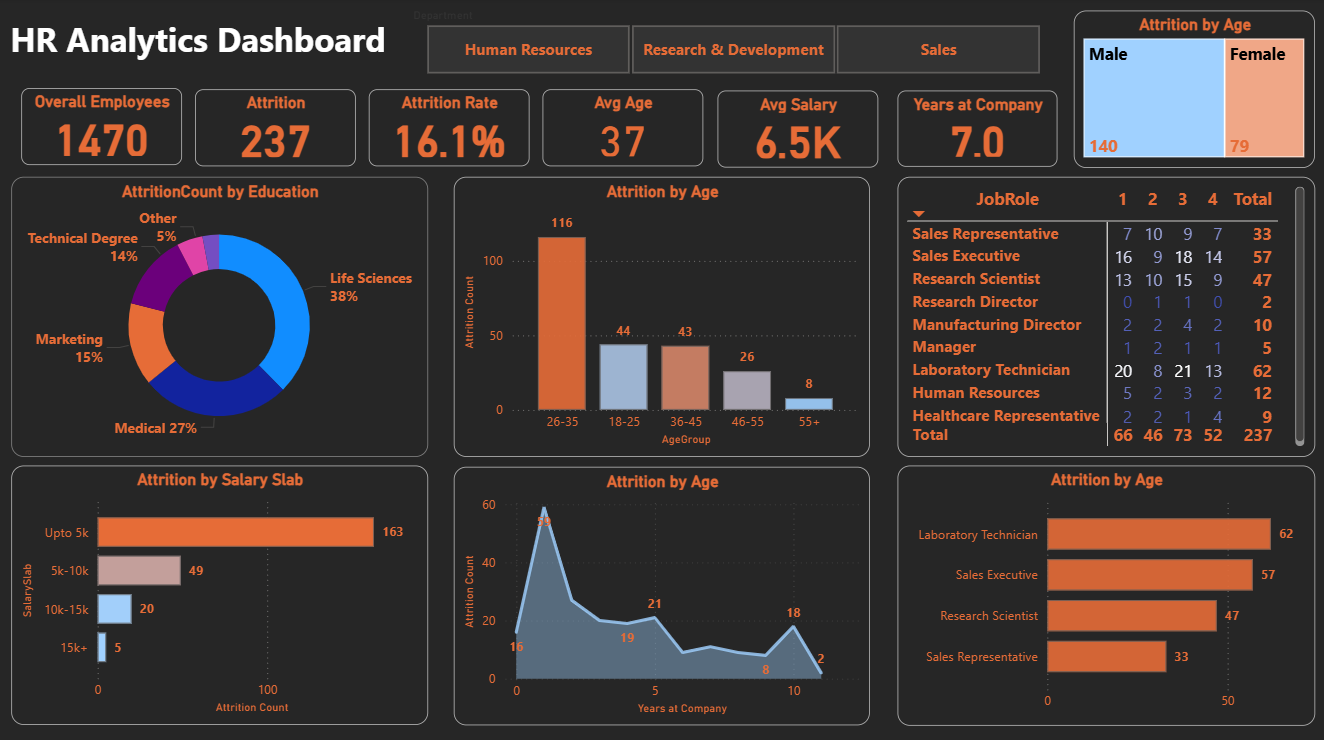

The page's visual inventory and layout, read from the dashboard file:
{"tool":"powerbi","page":{"name":"Page 1","canvas":[1280,720],"ordinal":0},"visuals":[{"type":"card","title":"Overall Employees","fields":{"Values":["CountNonNull(HR_Analytics.EmpID)"]},"box":[20.5,86.9,155,74.8],"z":0},{"type":"card","title":"Attrition Rate","fields":{"Values":["HR_Analytics.AttritionRate"]},"box":[355.9,88.1,155,74.8],"z":1000},{"type":"card","title":"Avg Age ","fields":{"Values":["Avg(HR_Analytics.Age)"]},"box":[523.6,88.1,155,74],"z":2000},{"type":"card","title":"Avg Salary","fields":{"Values":["Avg(HR_Analytics.MonthlyIncome)"]},"box":[692.5,89.3,155,74.8],"z":3000},{"type":"card","title":"Years at Company  ","fields":{"Values":["Avg(HR_Analytics.YearsAtCompany)"]},"box":[866.2,89.3,154.4,73.6],"z":4000},{"type":"card","title":"Attrition","fields":{"Values":["Sum(HR_Analytics.AttritionCount)"]},"box":[188.2,88.1,155,74.8],"z":5000},{"type":"donutChart","title":"AttritionCount by Education","fields":{"Category":["HR_Analytics.EducationField"],"Y":["Sum(HR_Analytics.AttritionCount)"]},"box":[10.9,172.5,402,270],"z":6000},{"type":"columnChart","title":"Attrition by Age ","fields":{"Category":["HR_Analytics.AgeGroup"],"Y":["Sum(HR_Analytics.AttritionCount)"]},"box":[437.9,172.5,401.7,270.2],"z":7000},{"type":"pivotTable","title":"Job Satisfaction ","fields":{"Rows":["HR_Analytics.JobRole"],"Columns":["HR_Analytics.JobSatisfaction"],"Values":["Sum(HR_Analytics.AttritionCount)"]},"box":[866.2,172.5,403,270],"z":8000},{"type":"barChart","title":"Attrition by Salary Slab ","fields":{"Category":["HR_Analytics.SalarySlab"],"Y":["Sum(HR_Analytics.AttritionCount)"]},"box":[10.9,451.2,402,250],"z":9000},{"type":"barChart","title":"Attrition by Age ","fields":{"Y":["Sum(HR_Analytics.AttritionCount)"],"Category":["HR_Analytics.JobRole"]},"box":[866.2,451.2,403,250.9],"z":10000},{"type":"areaChart","title":"Attrition by Age ","fields":{"Category":["HR_Analytics.YearsAtCompany"],"Y":["Sum(HR_Analytics.AttritionCount)"]},"box":[437.9,452.4,401.7,249.7],"z":11000},{"type":"treemap","title":"Attrition by Age ","fields":{"Group":["HR_Analytics.Gender"],"Values":["Sum(HR_Analytics.AttritionCount)"]},"box":[1036.3,12.1,232.8,152],"z":12000},{"type":"textbox","box":[4.8,13.3,433.1,66.4],"z":13000},{"type":"slicer","title":"Department","fields":{"Values":["HR_Analytics.Department"]},"box":[386.1,4.8,641.8,74.8],"z":14000}]}

Visuals, with their boxes in screenshot pixels (x1, y1, x2, y2), scaled from the page's 1280x720 canvas onto the 1324x740 screenshot:
"Overall Employees" card: (21, 89, 182, 166)
"Attrition Rate" card: (368, 91, 528, 167)
"Avg Age " card: (542, 91, 702, 167)
"Avg Salary" card: (716, 92, 877, 169)
"Years at Company  " card: (896, 92, 1056, 167)
"Attrition" card: (195, 91, 355, 167)
"AttritionCount by Education" donutChart: (11, 177, 427, 455)
"Attrition by Age " columnChart: (453, 177, 868, 455)
"Job Satisfaction " pivotTable: (896, 177, 1313, 455)
"Attrition by Salary Slab " barChart: (11, 464, 427, 721)
"Attrition by Age " barChart: (896, 464, 1313, 722)
"Attrition by Age " areaChart: (453, 465, 868, 722)
"Attrition by Age " treemap: (1072, 12, 1313, 169)
textbox: (5, 14, 453, 82)
"Department" slicer: (399, 5, 1063, 82)
